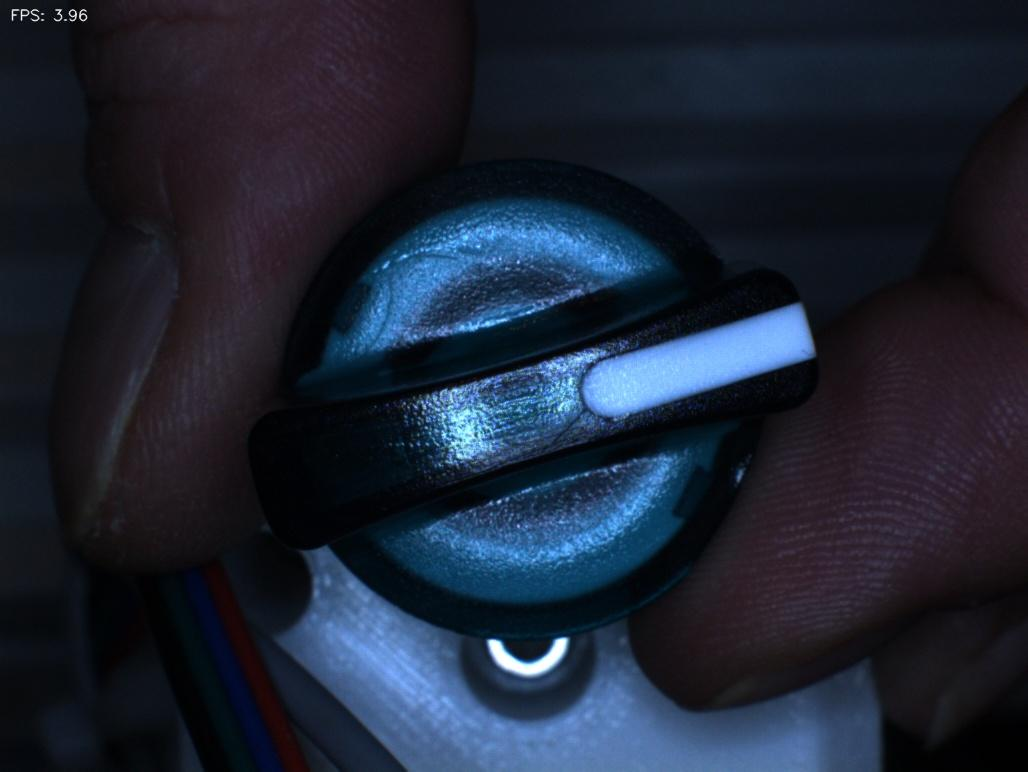Choc: (706, 433, 781, 519)
